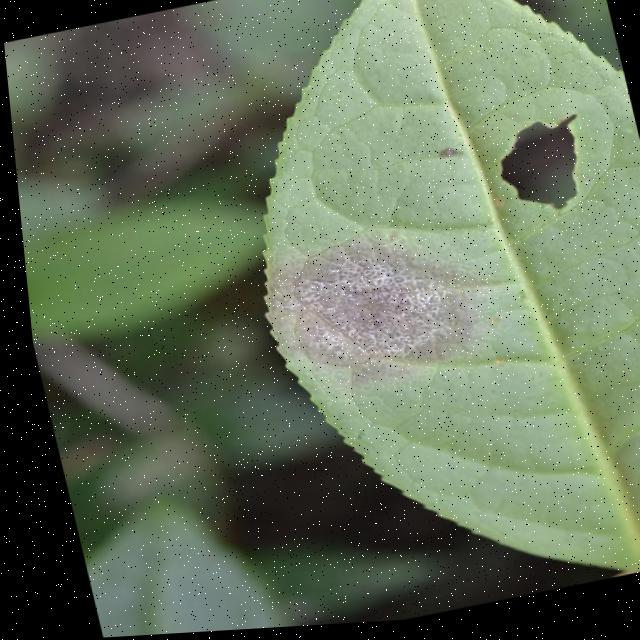Tea exobasidium blight: (250, 220, 480, 405)
